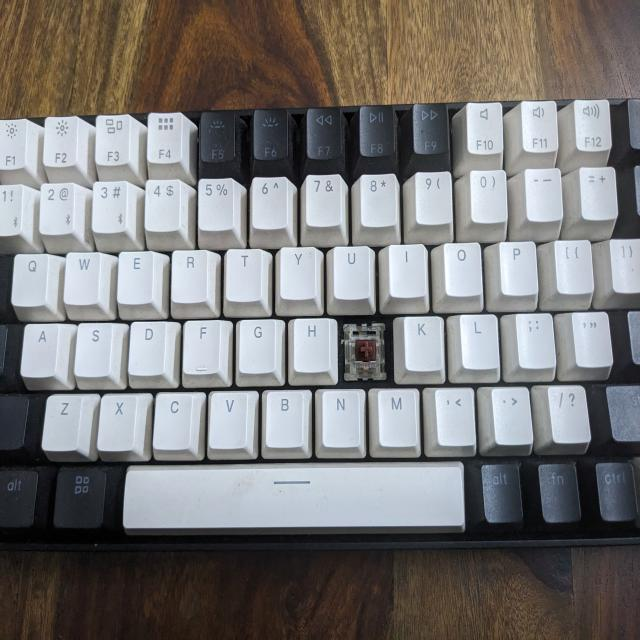C: (343, 317, 391, 383)
